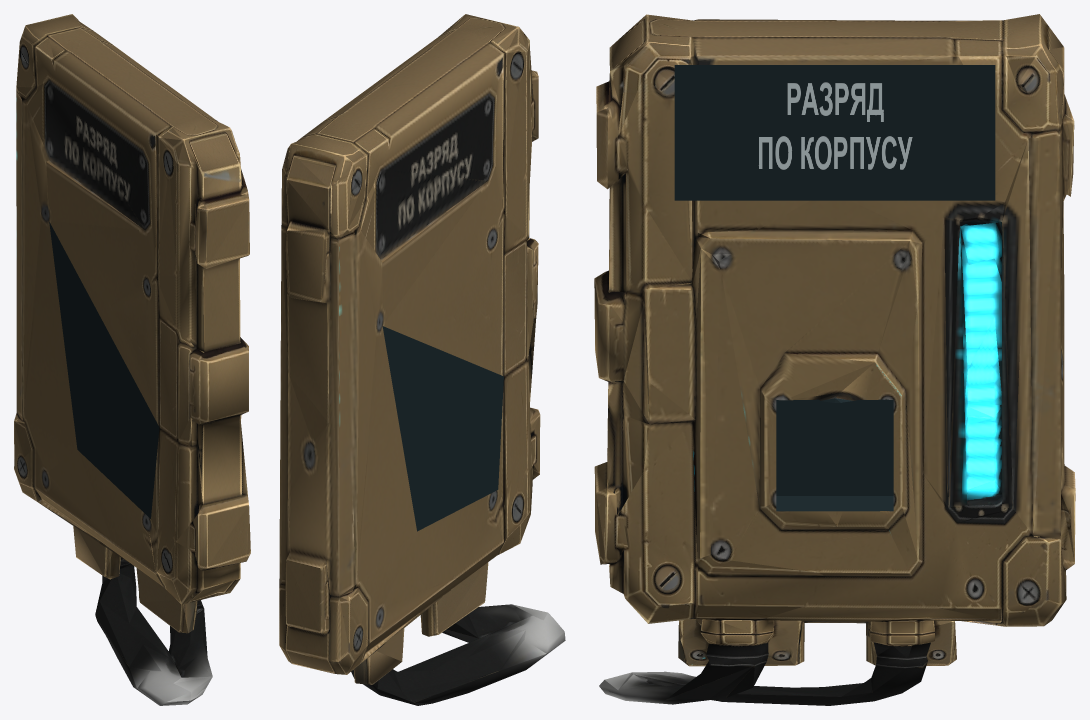
Rendered from razryad-shchitok.glb.
The picture shows the model from 3 angles, left to right: view 1: azimuth 30°, elevation 25°; view 2: azimuth 150°, elevation 25°; view 3: azimuth 270°, elevation 25°; orthographic projection. The views are drawn at different scales.
Visible parts, largest first — view 1: razryad-shchitok; view 2: razryad-shchitok; view 3: razryad-shchitok.
Part boxes in pixels (x1,y1,x2,y2): razryad-shchitok: [14, 14, 250, 705]; razryad-shchitok: [279, 14, 565, 705]; razryad-shchitok: [594, 14, 1075, 705].
Size of the model in its own units: 0.1365 by 0.7198 by 0.45.
1 material, 1 textured.
